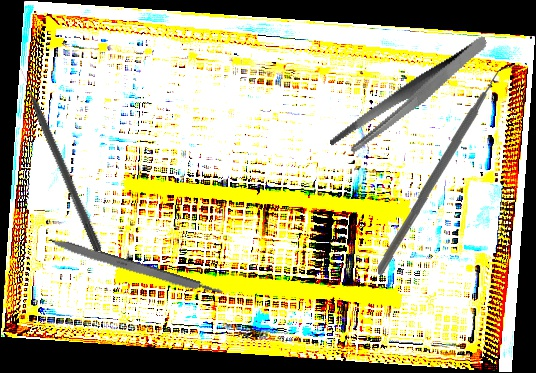Chopper: (374, 63, 523, 276)
Dressing Forceps: (313, 34, 507, 160)
Pusher: (16, 65, 105, 254)
Scalpel Handle: (45, 235, 225, 301)
